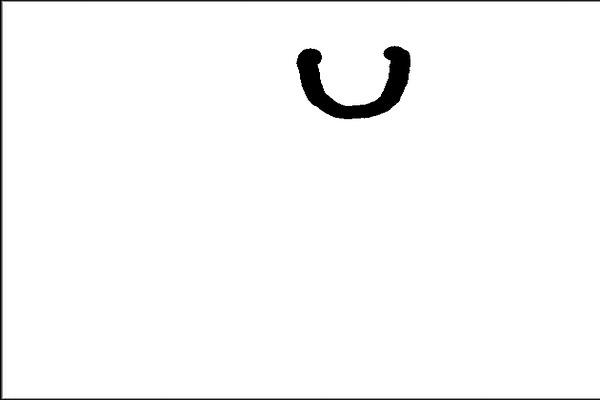U: (293, 42, 419, 116)
